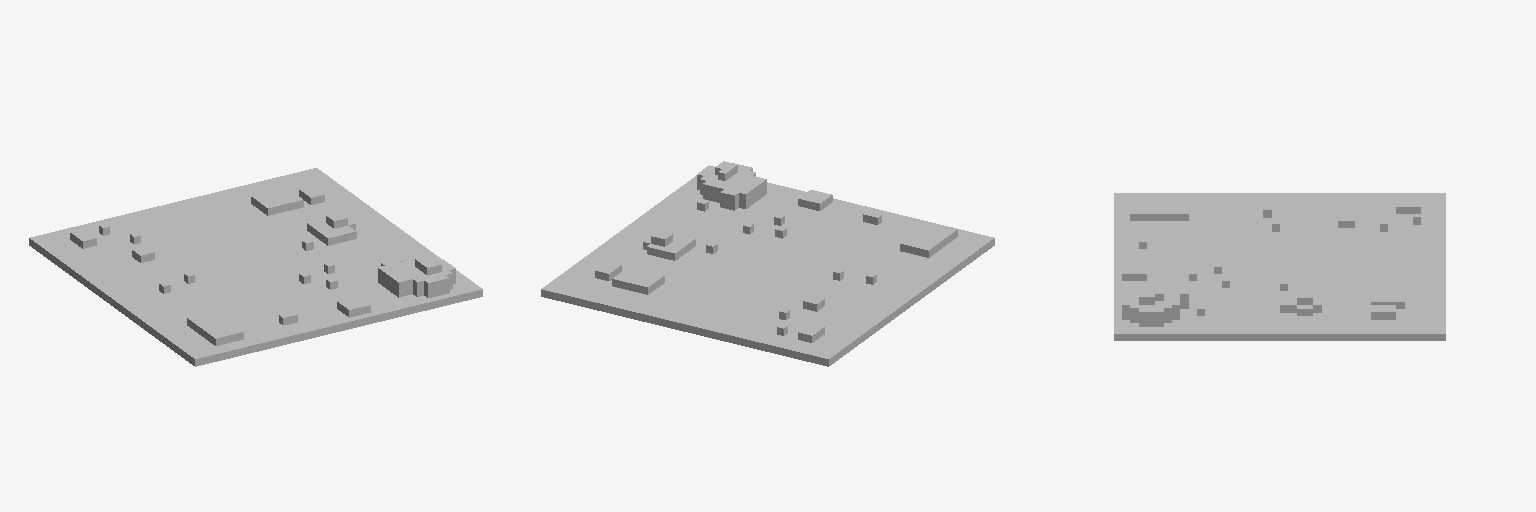
Rendered from floor1.obj.
3 renders of one model, left to right at view 1: azimuth 30°, elevation 25°; view 2: azimuth 150°, elevation 25°; view 3: azimuth 270°, elevation 25°, orthographic.
Visible parts, largest first — view 1: floor1; view 2: floor1; view 3: floor1.
Part boxes in pixels (left/top/right/bottom): floor1: left=29, top=168, right=482, bottom=366; floor1: left=541, top=161, right=994, bottom=366; floor1: left=1114, top=193, right=1445, bottom=340.
Size of the model in its own units: 40 by 4 by 40.